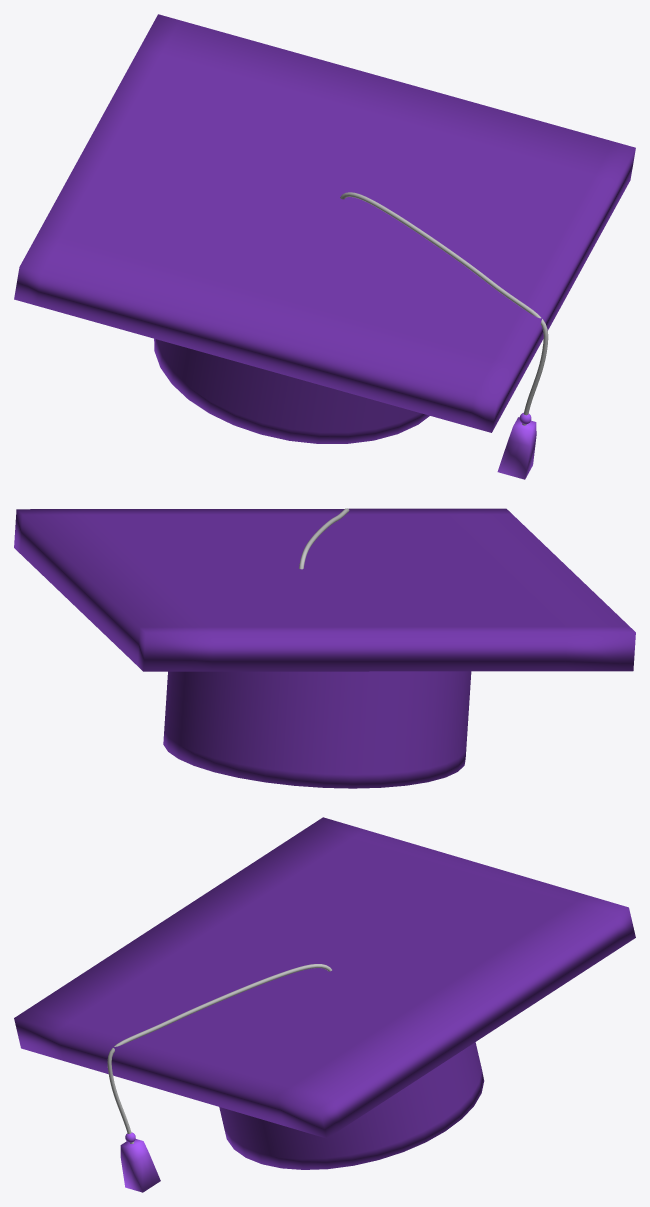
File: GraduationHat.gltf
The picture shows the model from 3 angles, top to bottom: view 1: azimuth 30°, elevation 25°; view 2: azimuth 150°, elevation 25°; view 3: azimuth 270°, elevation 25°; orthographic projection. The views are drawn at different scales.
Parts seen in each view (by area): view 1: Cylinder.033, BezierCurve.006, Cube.077; view 2: Cylinder.033, BezierCurve.006; view 3: Cylinder.033, Cube.077, BezierCurve.006.
Part boxes in pixels (x1,y1,x2,y2): Cylinder.033: (14, 14, 635, 443); BezierCurve.006: (340, 192, 548, 425); Cube.077: (497, 412, 536, 479); Cylinder.033: (14, 508, 635, 788); BezierCurve.006: (299, 508, 349, 569); Cylinder.033: (14, 817, 635, 1169); Cube.077: (120, 1132, 160, 1192); BezierCurve.006: (107, 964, 331, 1143).
Size of the model in its own units: 19.91 by 8.55 by 19.7.
